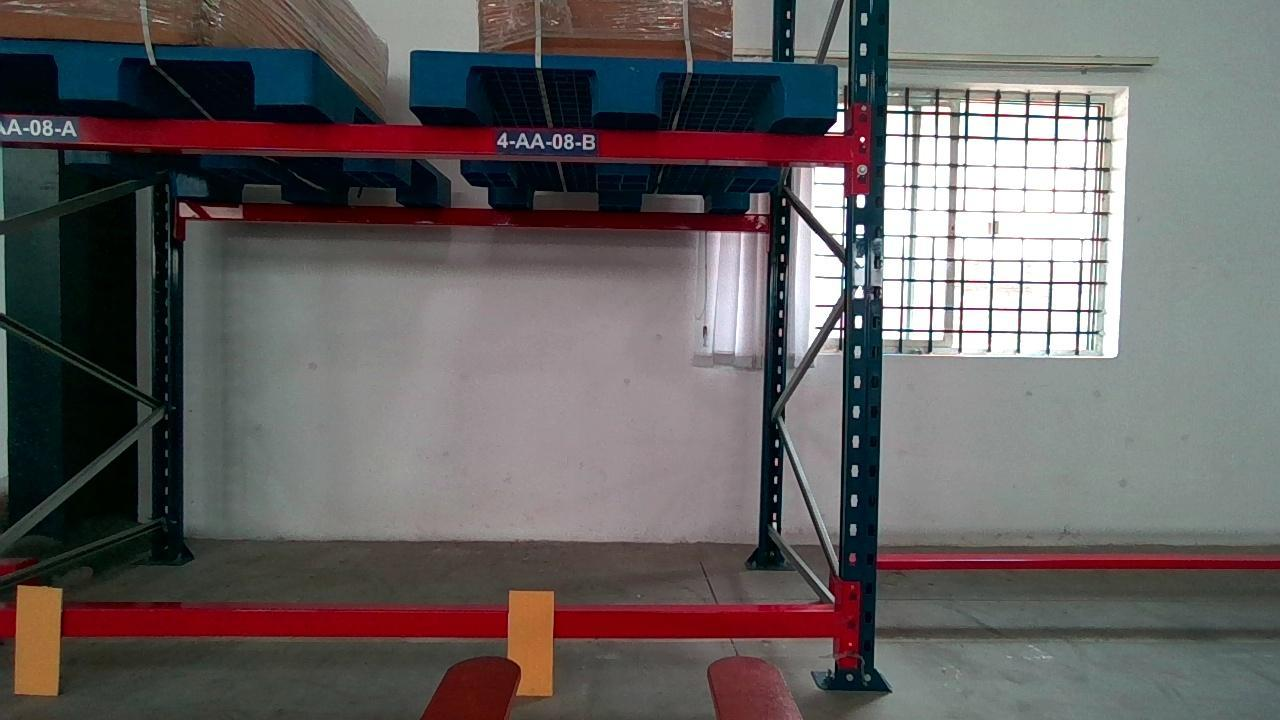h_rack: (2, 115, 869, 166)
orange_strip: (15, 582, 64, 695), (507, 589, 552, 695)
small_pallet: (407, 49, 838, 125), (0, 40, 313, 102)
